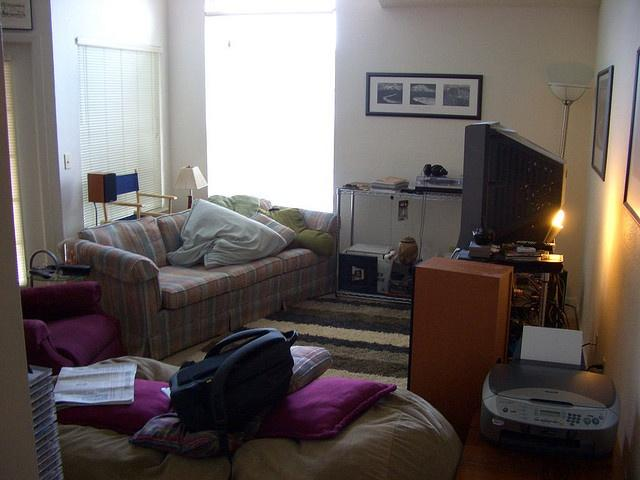Printer: (480, 323, 621, 456)
